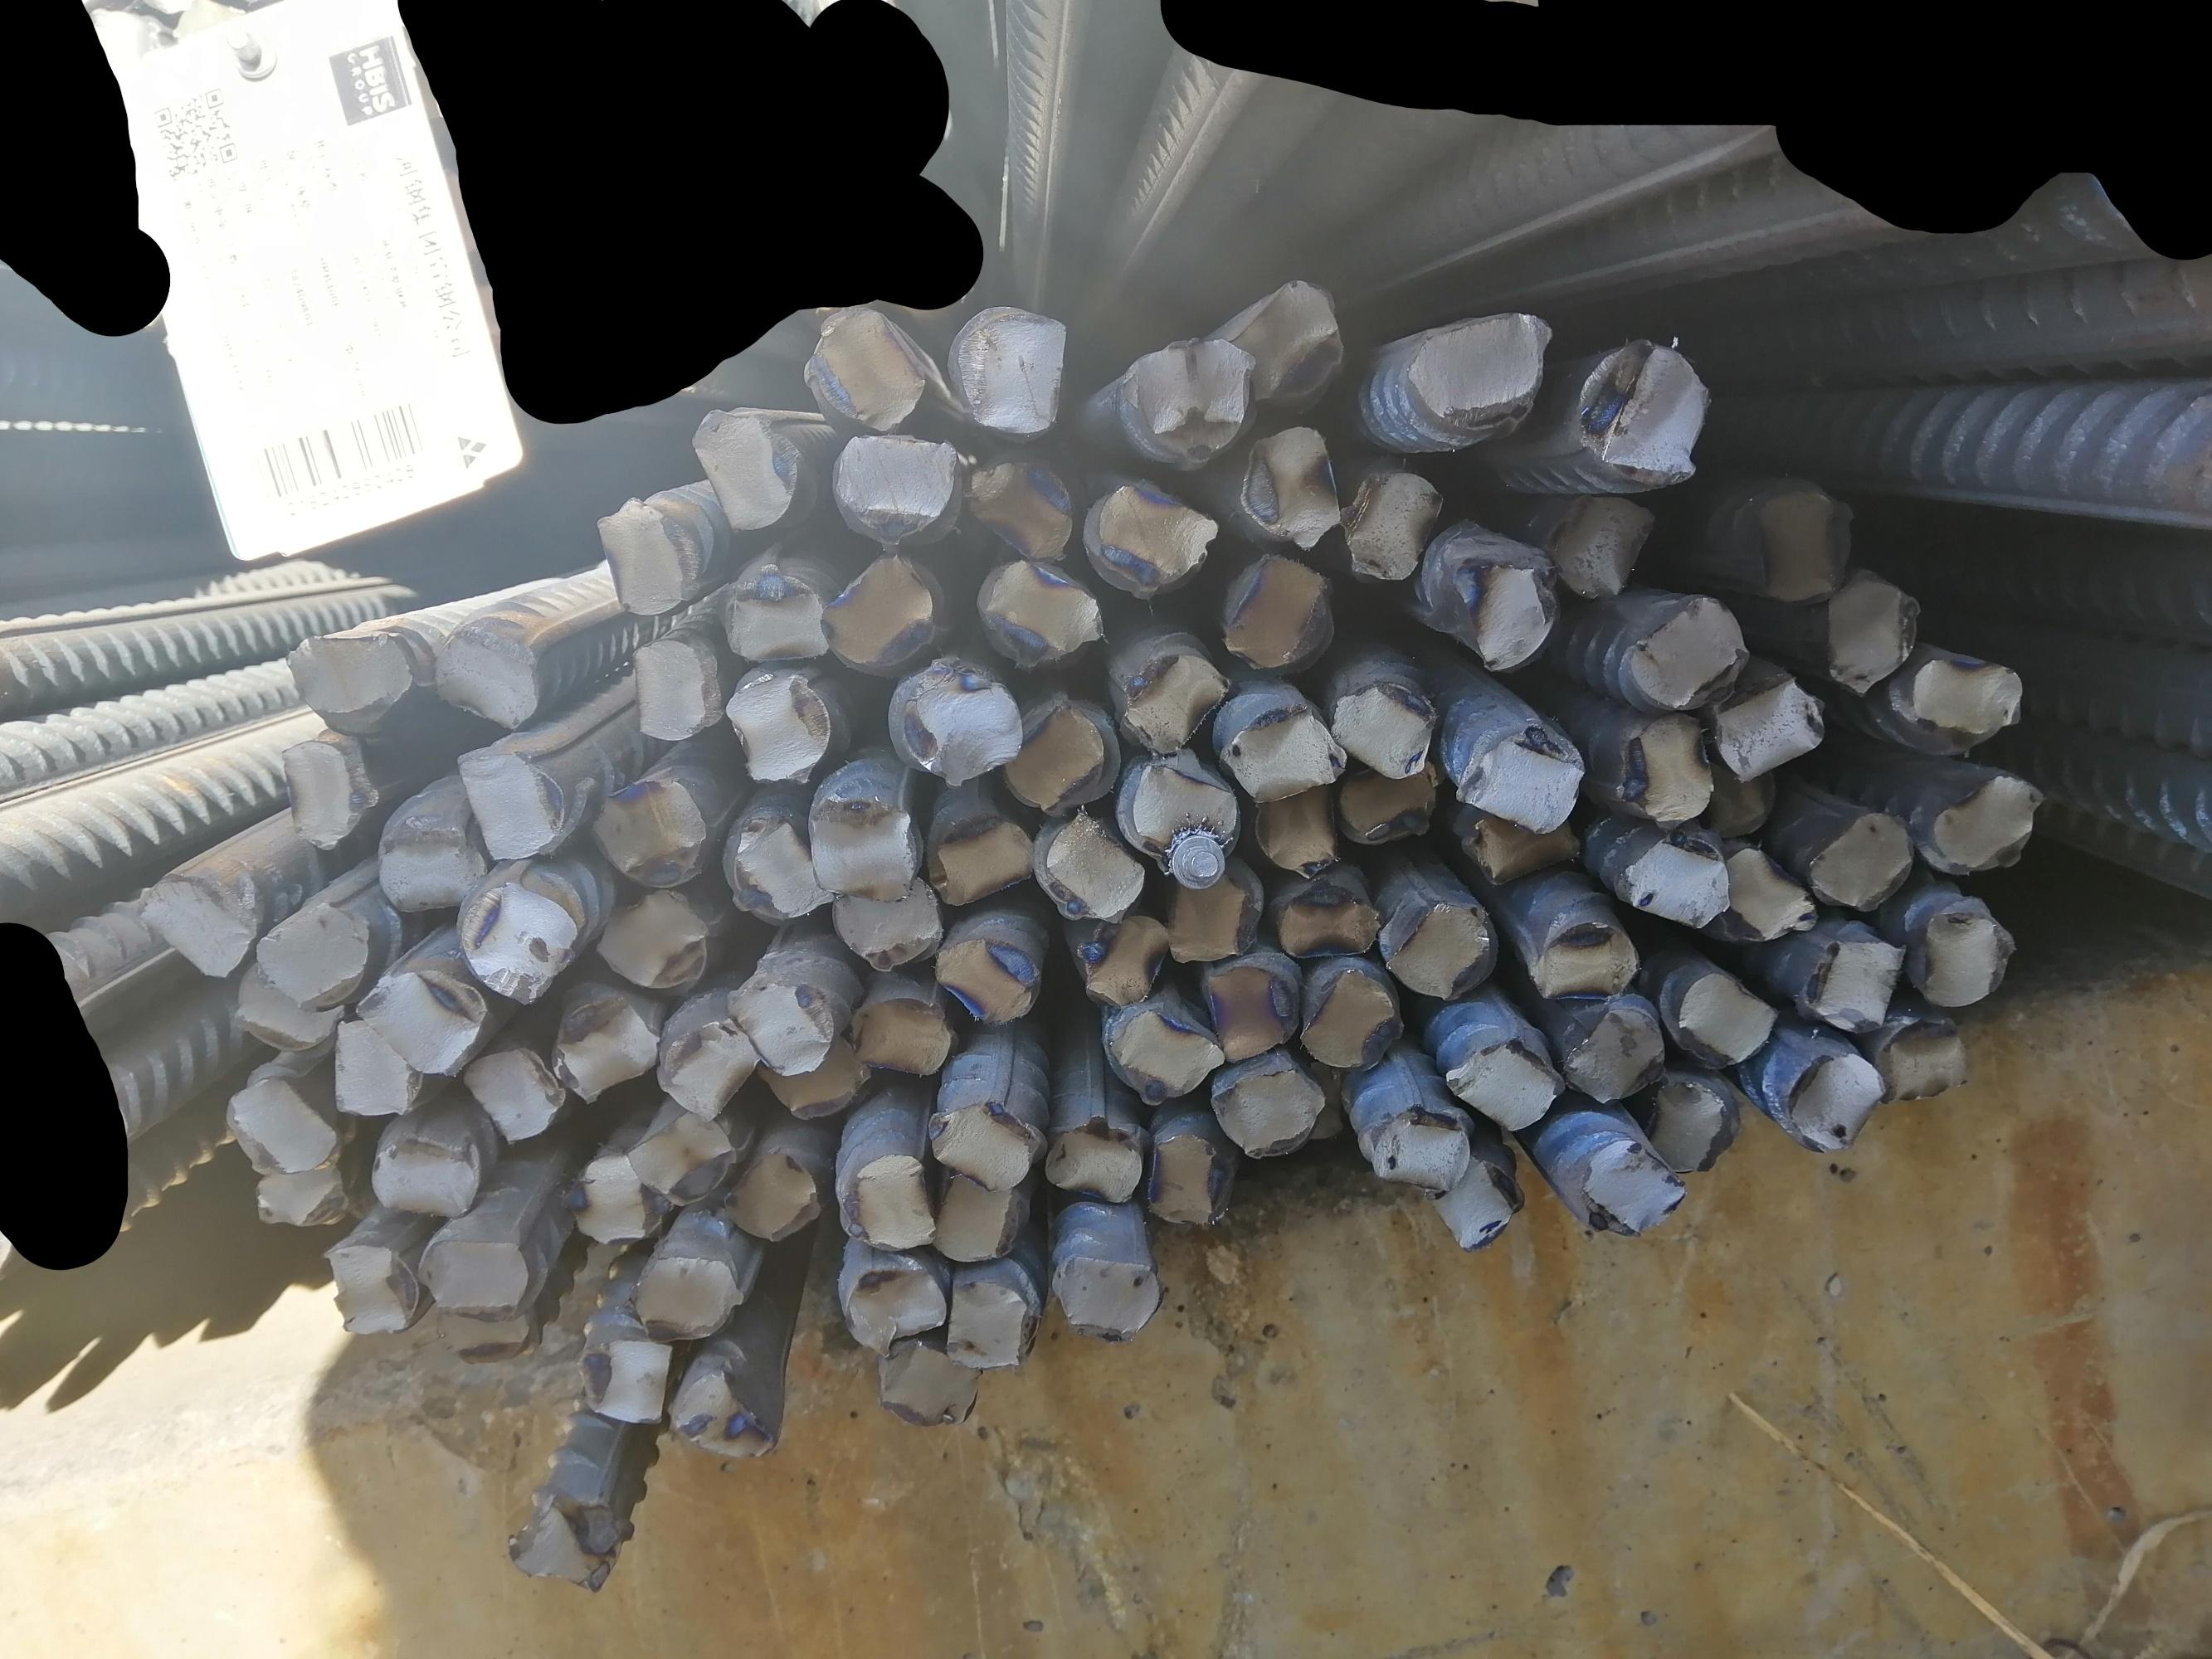bar: (1579, 333, 1710, 488), (1119, 335, 1259, 476), (1400, 310, 1550, 437), (884, 657, 1021, 788), (797, 303, 936, 432), (1086, 471, 1218, 605), (1220, 279, 1349, 416), (345, 962, 488, 1084), (1616, 589, 1752, 716), (945, 300, 1069, 439), (457, 878, 579, 1006), (689, 399, 800, 537), (971, 554, 1103, 669), (279, 622, 413, 735), (1891, 652, 2029, 760), (1455, 718, 1584, 833), (1001, 692, 1121, 814), (830, 432, 959, 545), (1229, 422, 1340, 552), (1910, 767, 2041, 878), (818, 549, 936, 667), (1217, 552, 1337, 669), (593, 488, 697, 622), (1447, 549, 1557, 674), (1330, 464, 1447, 580), (1741, 484, 1856, 603), (1030, 805, 1145, 924), (138, 875, 260, 986), (1117, 760, 1239, 871), (450, 742, 567, 857), (587, 775, 708, 887), (957, 451, 1079, 561), (1811, 577, 1924, 694), (427, 613, 540, 728), (368, 809, 488, 917), (1102, 1004, 1227, 1107), (1220, 704, 1349, 803), (722, 667, 831, 782), (225, 1075, 342, 1183), (805, 796, 922, 904), (722, 812, 833, 924), (253, 901, 373, 1004), (502, 1490, 617, 1595), (1114, 653, 1231, 756), (1616, 709, 1715, 829), (594, 887, 708, 992), (1712, 673, 1825, 777), (1443, 1032, 1562, 1131), (1562, 1140, 1684, 1236), (1781, 1053, 1890, 1161), (624, 1107, 737, 1209), (1794, 932, 1907, 1035), (1384, 899, 1499, 1000), (655, 1012, 760, 1122), (228, 962, 343, 1061), (1543, 490, 1647, 598), (631, 1249, 744, 1349), (830, 873, 945, 971), (1910, 904, 2017, 1009), (549, 999, 659, 1100), (1621, 831, 1733, 931), (1211, 1063, 1327, 1159), (729, 974, 835, 1077), (1300, 967, 1407, 1070), (1806, 812, 1912, 915), (1328, 680, 1435, 781), (753, 1032, 872, 1122), (1358, 1100, 1476, 1190), (722, 565, 830, 664), (926, 812, 1035, 910), (668, 1368, 779, 1464), (924, 1098, 1037, 1192), (1560, 1004, 1665, 1105), (279, 735, 366, 856), (322, 1229, 418, 1337), (1053, 1249, 1161, 1345), (934, 934, 1044, 1028), (837, 1262, 948, 1354), (1717, 842, 1816, 945), (460, 1047, 565, 1145), (837, 1154, 940, 1251), (1677, 969, 1780, 1066), (725, 1141, 821, 1246), (629, 634, 725, 739), (1462, 803, 1581, 887), (1199, 960, 1297, 1061), (1421, 1154, 1523, 1249), (1529, 917, 1644, 1002), (319, 1018, 418, 1115), (1250, 775, 1342, 880), (1333, 755, 1438, 847), (371, 1131, 481, 1218), (417, 1236, 526, 1323), (929, 1175, 1032, 1267), (1166, 863, 1259, 965), (563, 1154, 668, 1244), (1644, 1075, 1736, 1175), (1276, 875, 1382, 960), (1074, 911, 1170, 1006), (1044, 1114, 1142, 1206), (847, 997, 959, 1077), (879, 1340, 983, 1425), (1870, 1016, 1968, 1105), (572, 1340, 671, 1425), (1143, 1133, 1232, 1227), (945, 1277, 1034, 1368), (1700, 756, 1787, 845), (429, 1302, 535, 1364), (253, 1169, 349, 1229), (1297, 1058, 1349, 1154)
